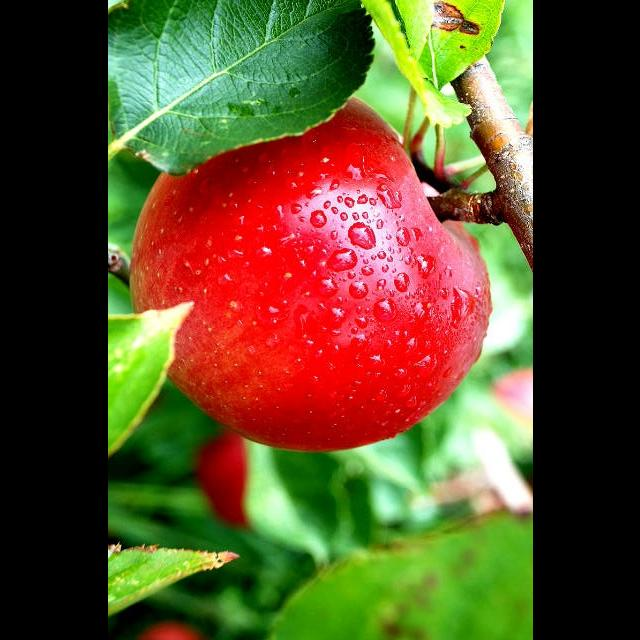Apel Segar: (126, 89, 498, 461)
